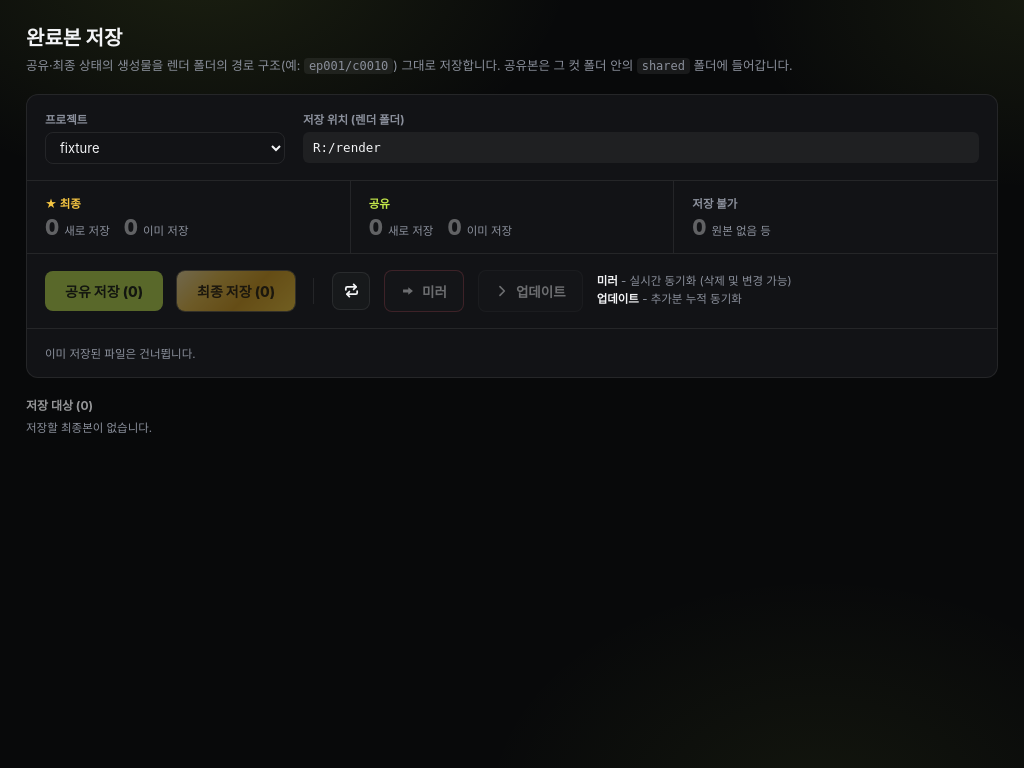
Test: 같은 렌더 폴더를 다른 프로젝트도 쓰면 비교 결과가 정리를 하지 않는 이유를 말한다
The image size is (1024, 768).
Click the button with class "export-icon-btn": coordinates (351, 291) [332, 272, 370, 310]
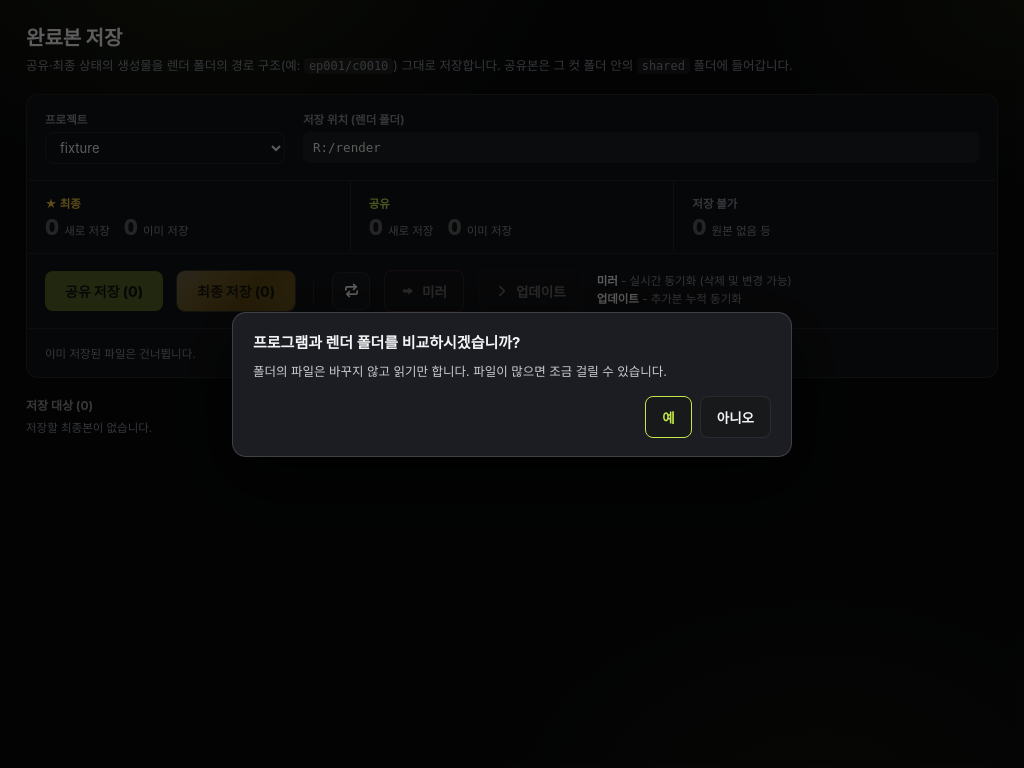
Click the button "예": coordinates (668, 416) [645, 396, 692, 438]
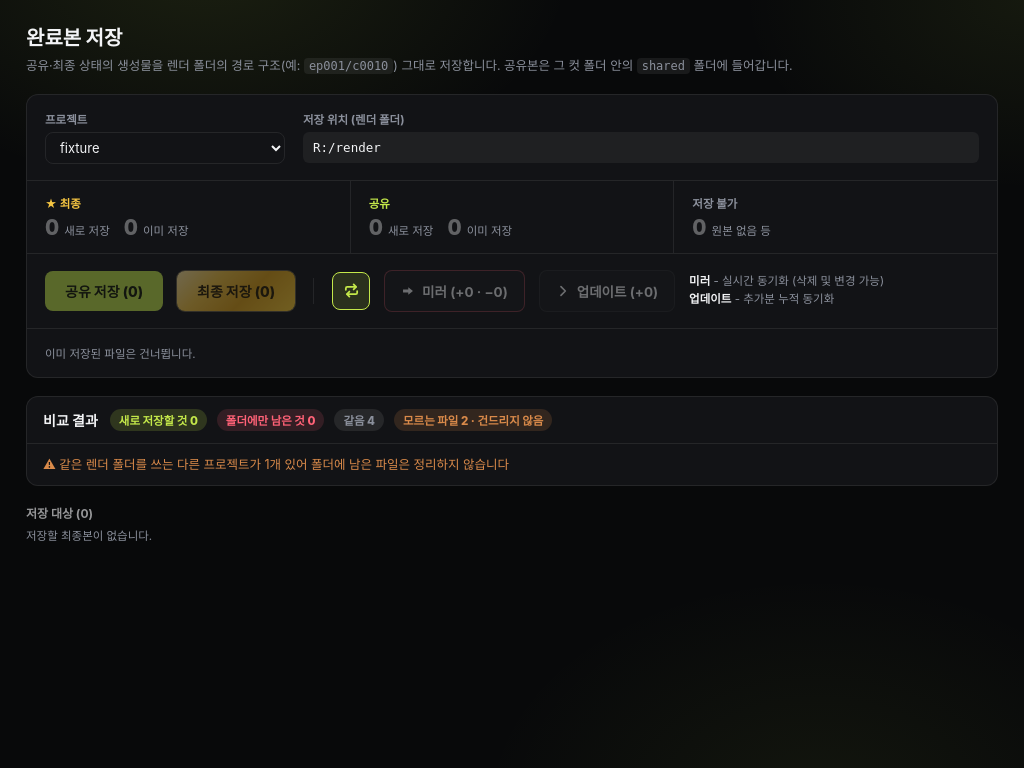
Expected: the button "미러 (+0 · −0)" is disabled, [384, 270, 525, 312]
Expected: the element with class "export-compare" shows "다른 프로젝트가 1개", [59, 457, 509, 472]
